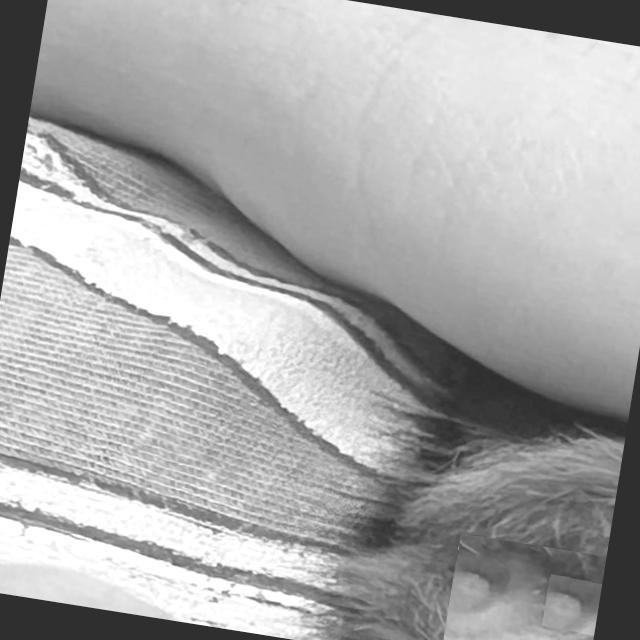mae: (442, 534, 606, 640)
mal: (541, 577, 600, 635)
